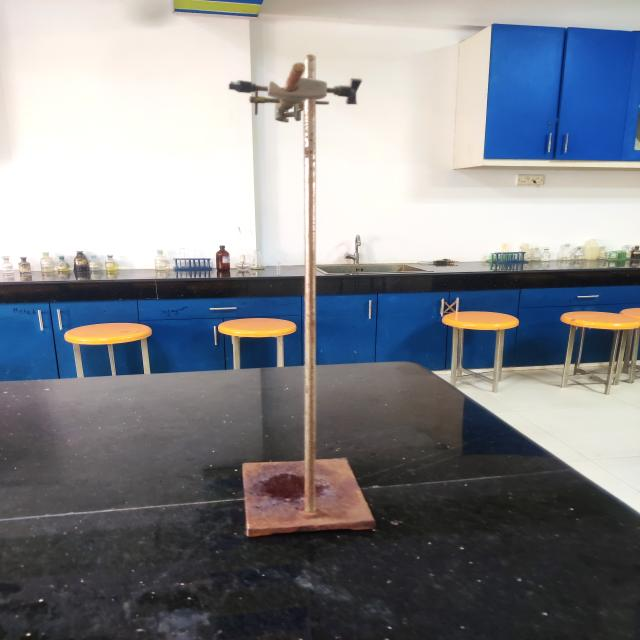Burette_Stands: (190, 37, 420, 563)
